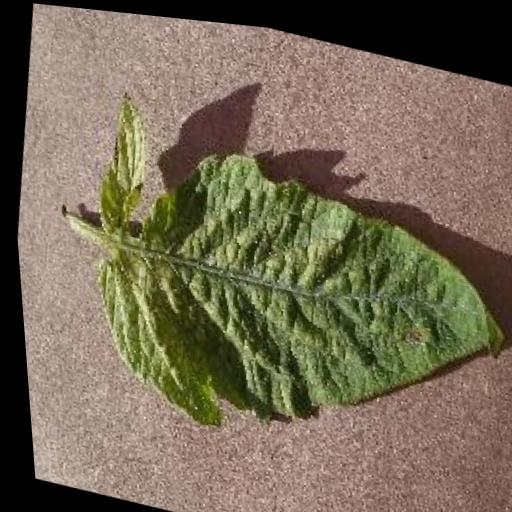Spider Mites: (64, 83, 512, 492)
